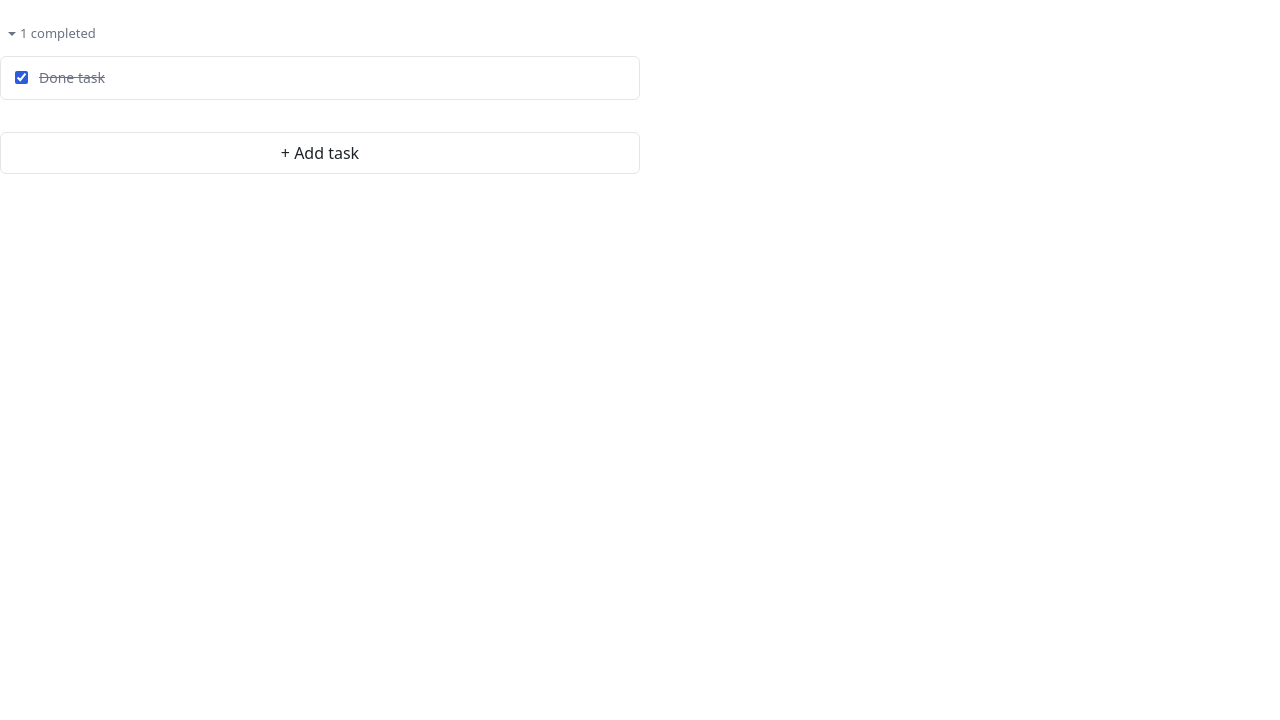
Test: TaskList › completed tasks are read-only in the detail view (no Save button) until reopened
expect the text "Done task" is shown: met, box [39, 66, 105, 88]
Click the button named "View \"Done task\"". click: [72, 77]
box: [39, 66, 587, 88]
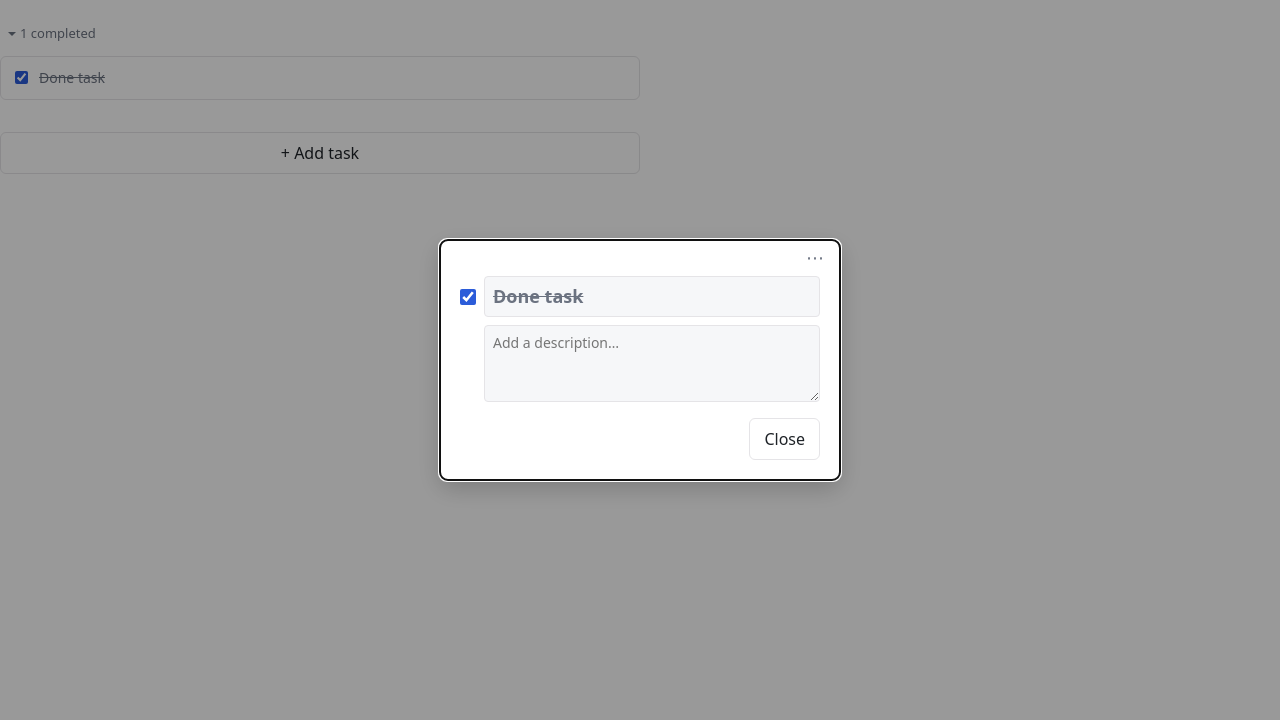
Click the button "Close". click: [785, 439]
box: [749, 418, 820, 460]
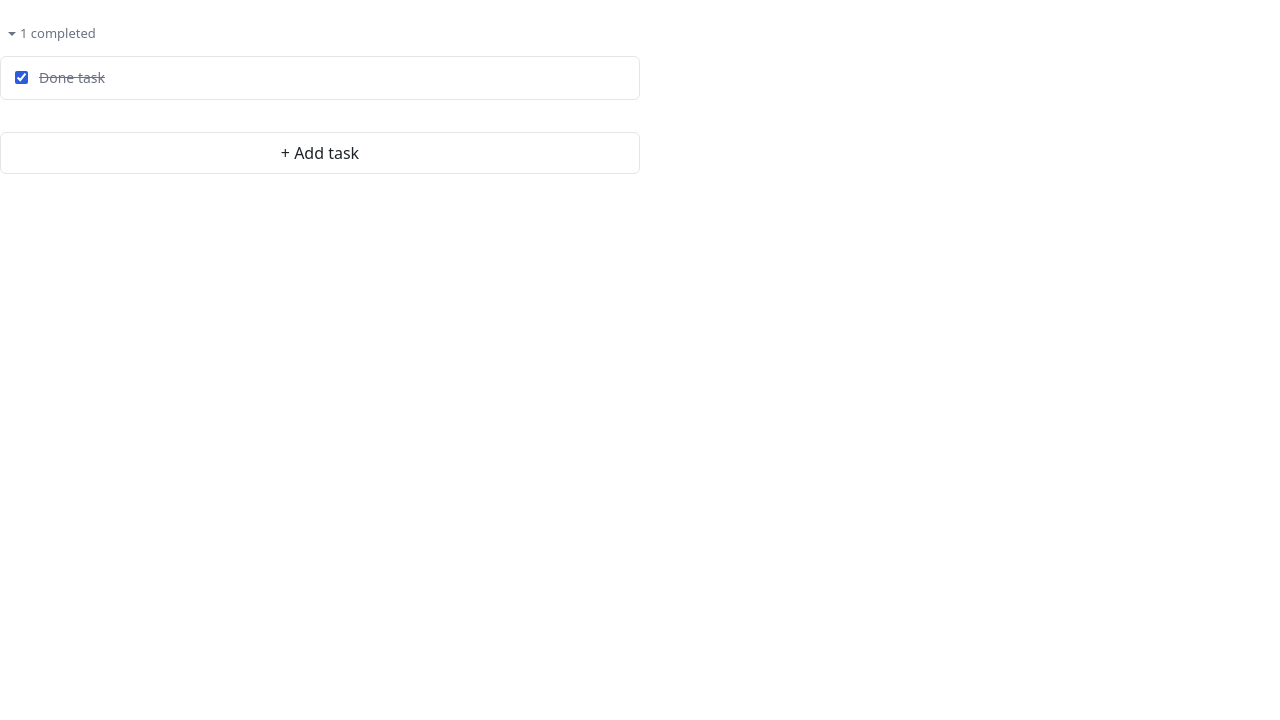
expect the dialog is gone: met
